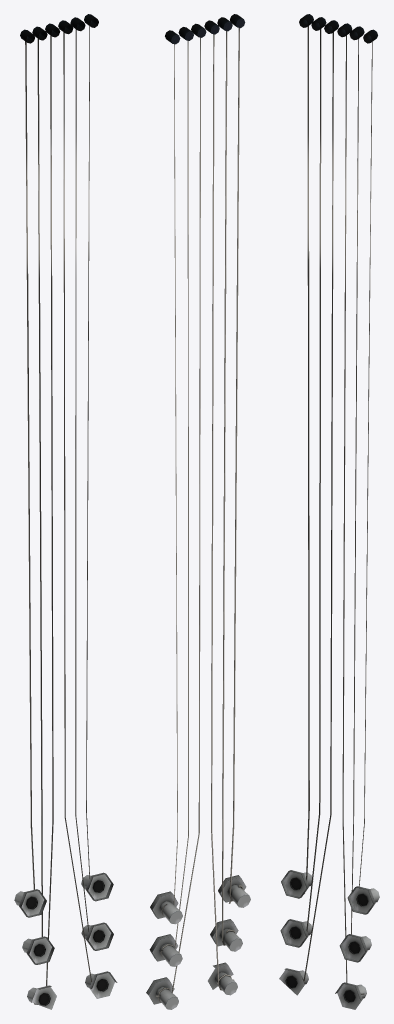
Rendered from guitar string[metal].fbx.
The picture shows the model from 3 angles, left to right: view 1: azimuth 30°, elevation 25°; view 2: azimuth 210°, elevation 25°; view 3: azimuth 330°, elevation 25°; orthographic projection.
Parts seen in each view (by area): view 1: Line001_Material__295_0.074; view 2: Line001_Material__295_0.074; view 3: Line001_Material__295_0.074.
Part boxes in pixels (bbox=[...]): Line001_Material__295_0.074: bbox=[14, 14, 117, 1009]; Line001_Material__295_0.074: bbox=[146, 14, 250, 1009]; Line001_Material__295_0.074: bbox=[279, 14, 379, 1009].
Bounding box in the file's own units: 275 × 2747 × 113.
Materials: 1 (1 with a texture image).
